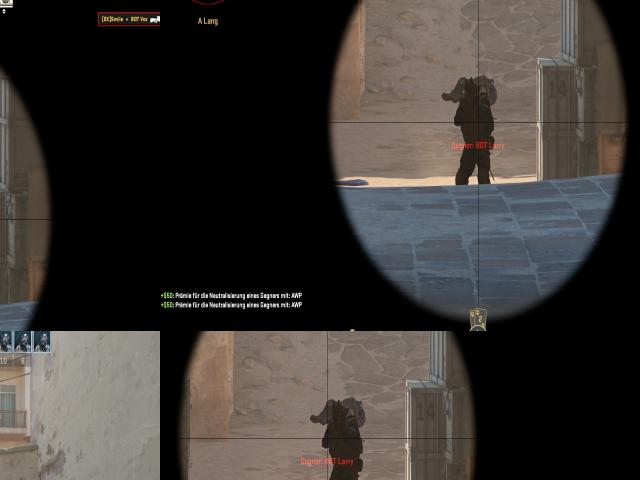CT: (456, 76, 491, 184), (326, 401, 358, 480)
CT-Head: (461, 80, 480, 106), (331, 402, 346, 423)
Dead: (316, 396, 366, 425), (445, 76, 497, 101)
